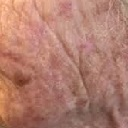Actinic: (66, 81, 128, 119), (8, 68, 33, 94)
